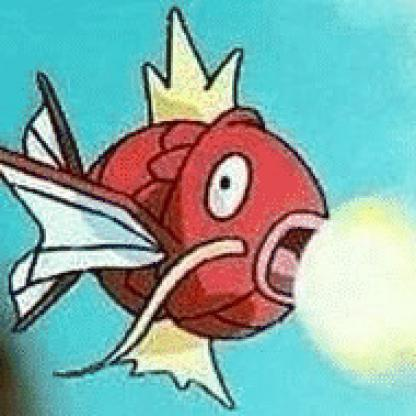Magikarp: (1, 17, 330, 405)
